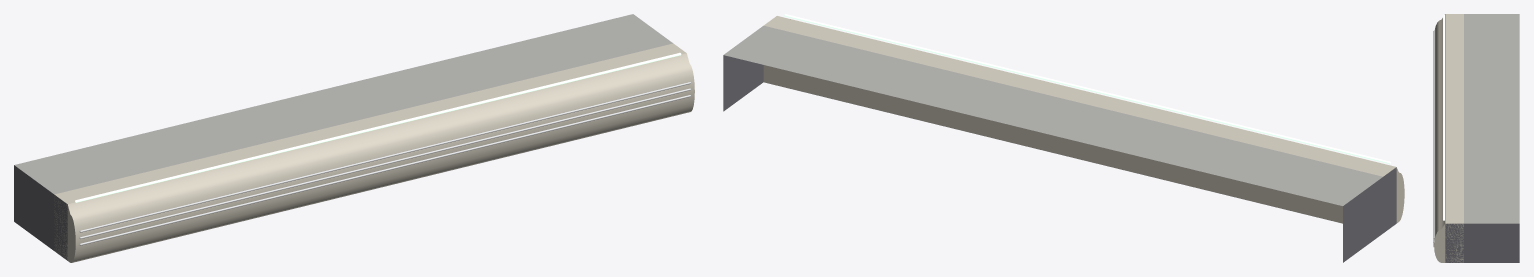
File: retro_cap_band_8.glb
The picture shows the model from 3 angles, left to right: view 1: azimuth 30°, elevation 25°; view 2: azimuth 150°, elevation 25°; view 3: azimuth 270°, elevation 25°; orthographic projection. The views are drawn at different scales.
Parts seen in each view (by area): view 1: retro_cap_band_8; view 2: retro_cap_band_8; view 3: retro_cap_band_8.
Part boxes in pixels (x1,y1,x2,y2): retro_cap_band_8: (14,14,694,262); retro_cap_band_8: (723,14,1404,262); retro_cap_band_8: (1433,14,1519,262).
Bounding box in the file's own units: 8 × 0.7368 × 1.39.
